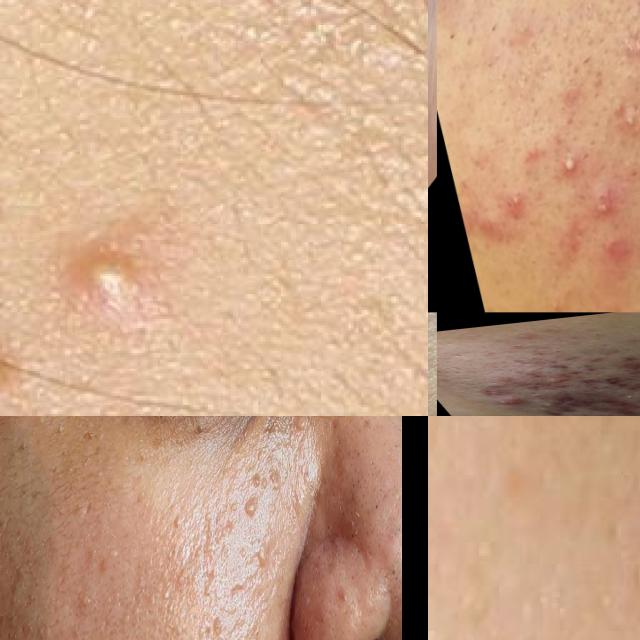comedone: (584, 180, 624, 231), (611, 30, 640, 81), (497, 185, 529, 222), (350, 437, 366, 481), (491, 342, 530, 353), (347, 521, 362, 549), (385, 560, 397, 594), (340, 582, 352, 616), (579, 331, 608, 343), (370, 498, 383, 524), (477, 381, 506, 390), (519, 354, 544, 363), (540, 348, 569, 355)
flat_wart: (240, 461, 294, 530), (122, 574, 161, 632), (196, 505, 238, 551), (199, 610, 234, 640), (255, 539, 278, 576), (80, 585, 104, 618)
milium: (56, 421, 68, 448), (87, 416, 95, 421)
pustule: (550, 139, 587, 187), (610, 102, 640, 148)
sebo-crystan-conglo: (515, 378, 640, 416), (613, 368, 640, 395), (491, 393, 531, 408)
syringoma: (285, 416, 316, 451)
